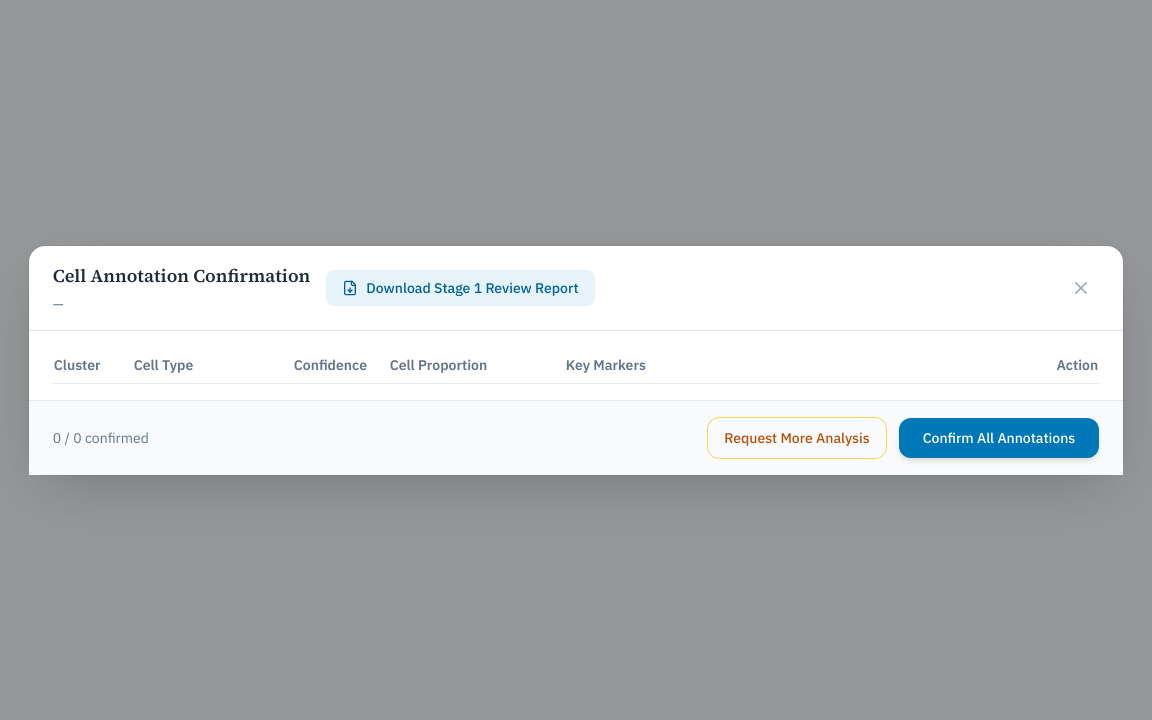
Stage 1 review report download › shows a download error and permits retry
This screenshot has width=1152, height=720.
Click the button "Download Stage 1 Review Report": {"x": 460, "y": 288} x1=326 y1=270 x2=594 y2=306
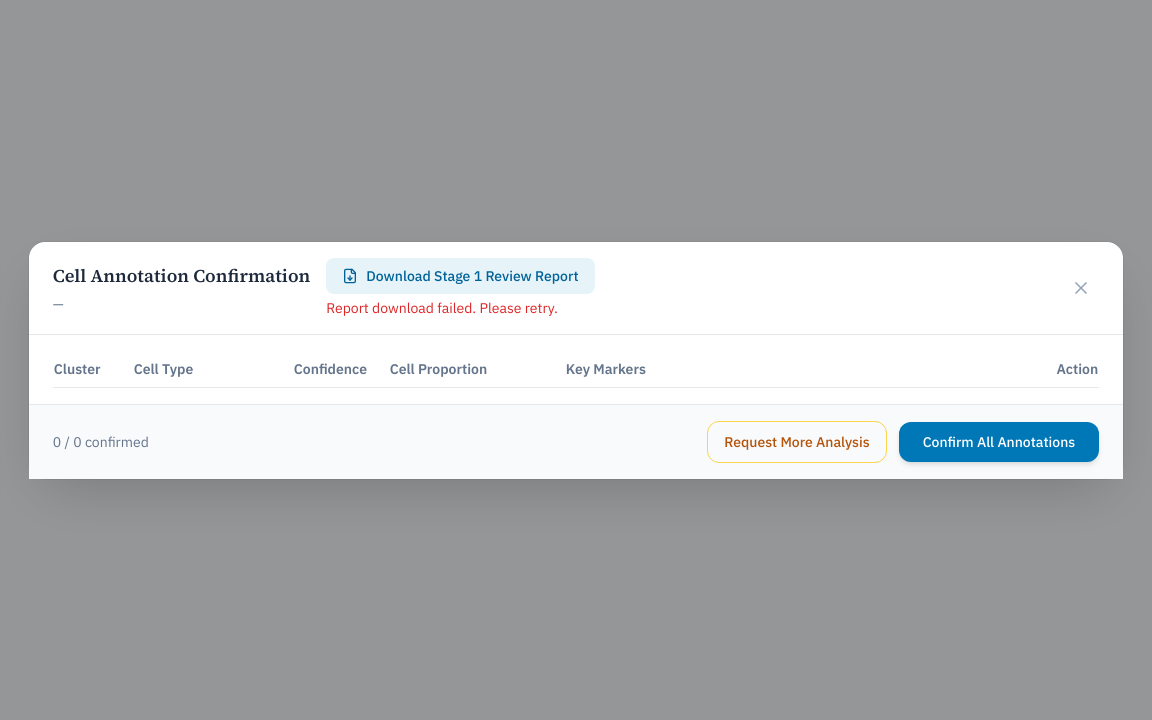
Expected: the message reads "Report download failed. Please retry.", x1=326 y1=298 x2=558 y2=316
